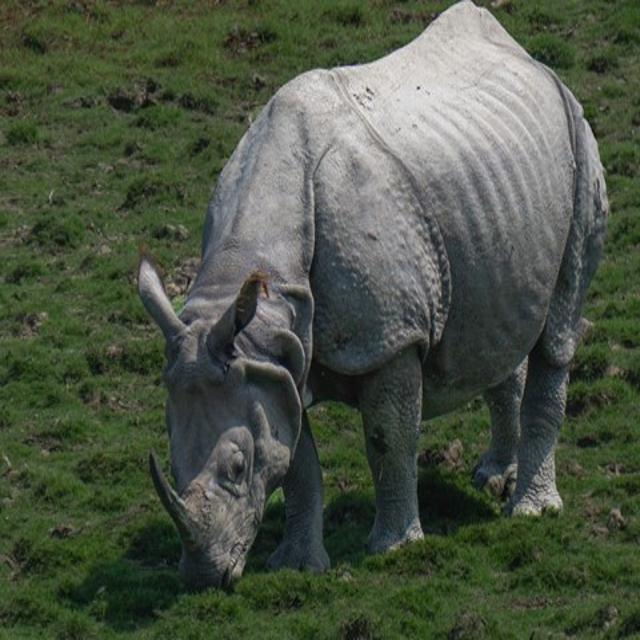Rinoceros: (84, 0, 621, 604)
